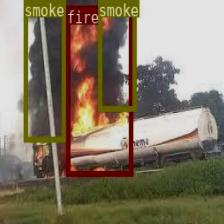fire: (65, 5, 132, 175)
smoke: (23, 0, 64, 141), (97, 0, 136, 111)
